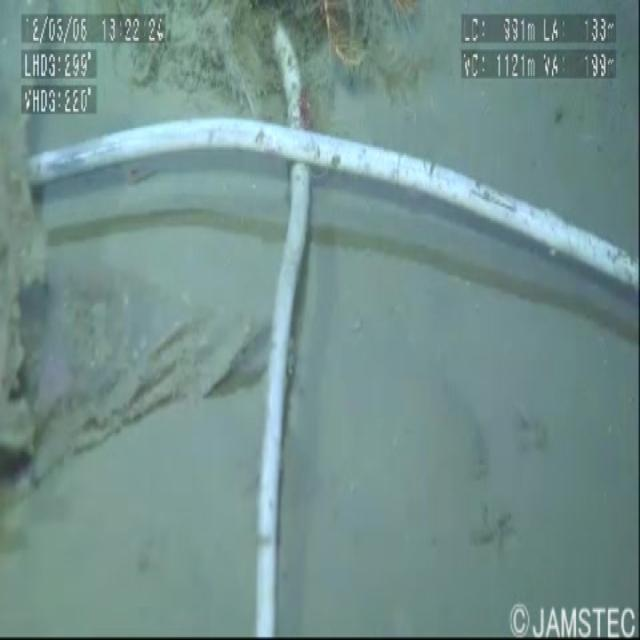Wood: (13, 100, 640, 325), (253, 0, 317, 640)
